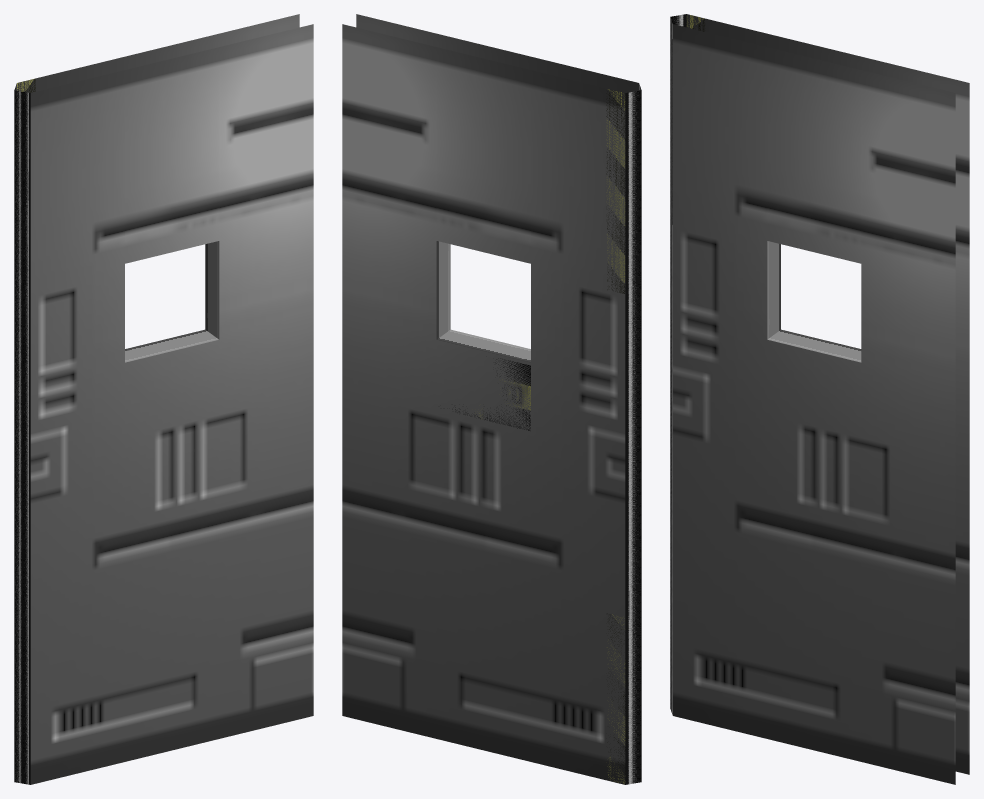
File: primary_138.glb
The picture shows the model from 3 angles, left to right: view 1: azimuth 30°, elevation 25°; view 2: azimuth 150°, elevation 25°; view 3: azimuth 330°, elevation 25°; orthographic projection.
Parts seen in each view (by area): view 1: Object; view 2: Object; view 3: Object.
Boxes of the visible parts, x1,y1,x2,y2 form: Object: [14, 14, 313, 784]; Object: [342, 14, 641, 784]; Object: [670, 14, 969, 784].
Bounding box in the file's own units: 1.28 × 2.89 × 0.1049.
7 materials, 7 textured.
